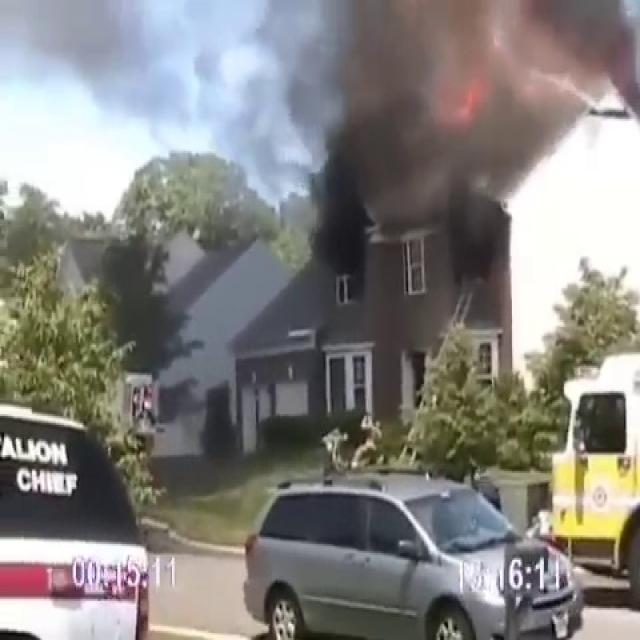Smoke: (248, 0, 640, 244)
